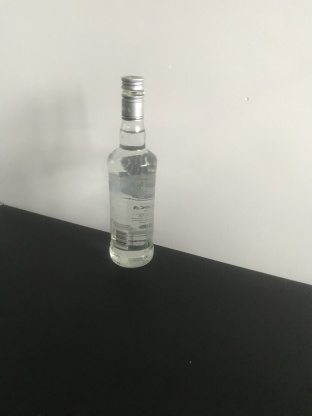nakretka: (119, 72, 146, 121)
